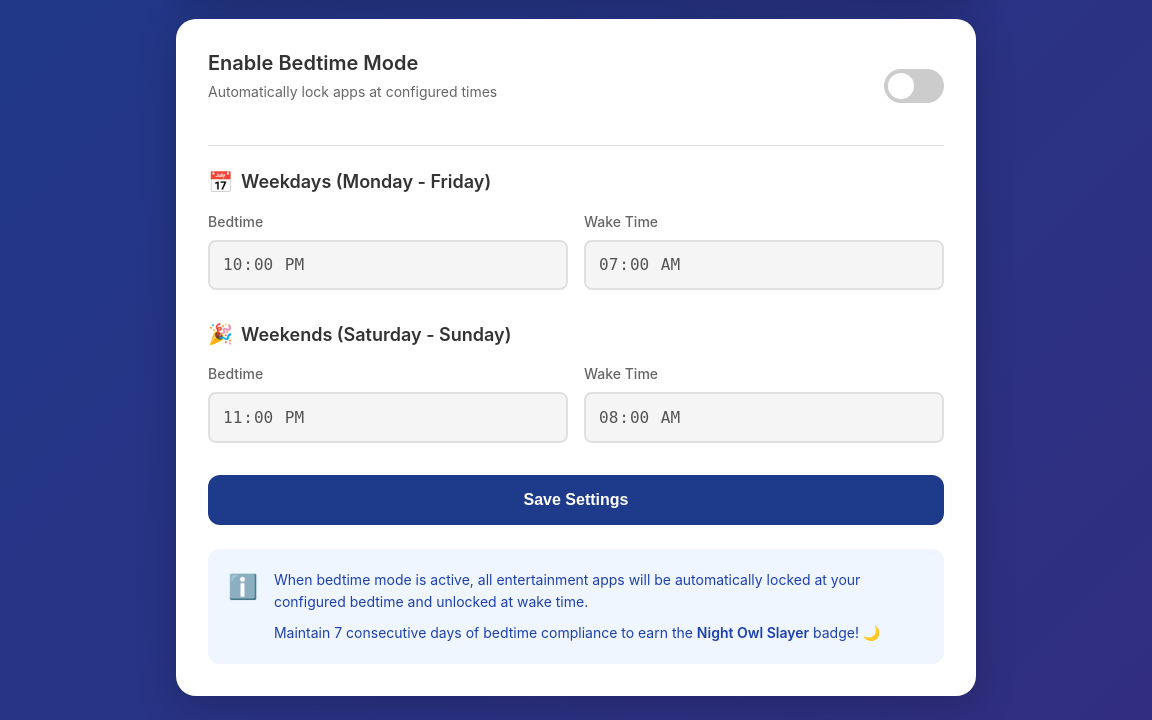
Test: BedtimeClient › displays error message when save fails
(page scrolled)
Click the button "Save Settings". click: (576, 500)
box: [208,475,944,525]
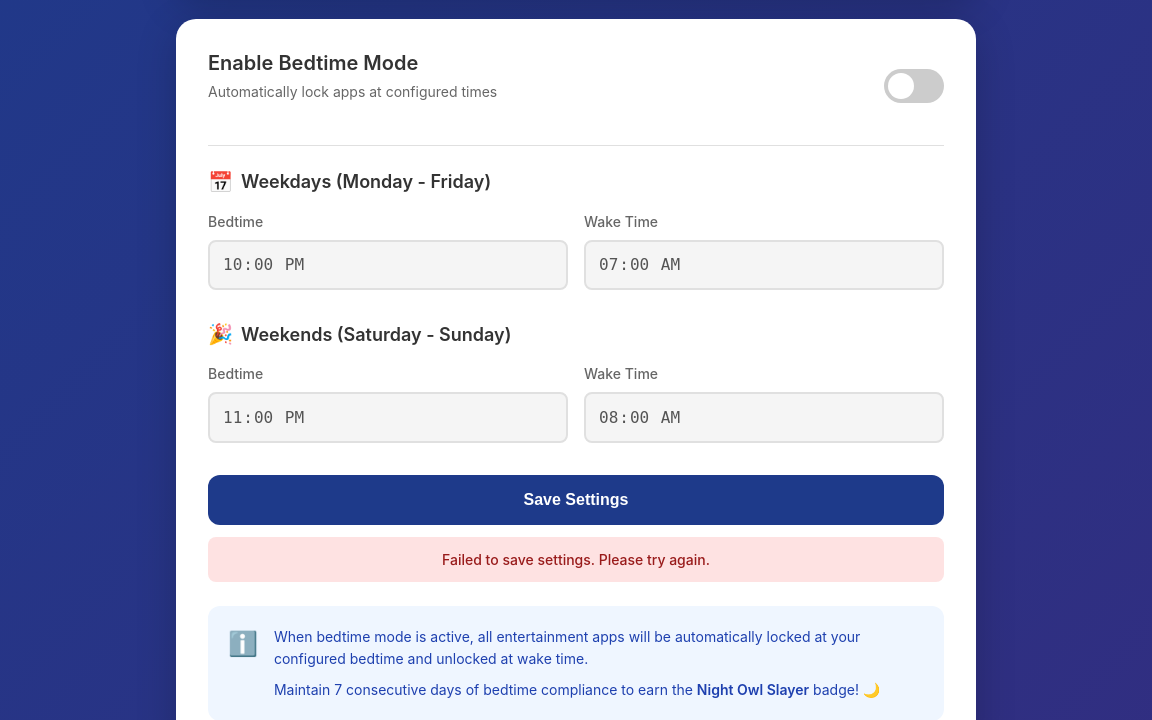
Now the text "Failed to save settings. Please try again." is shown, box [208,537,944,582]
